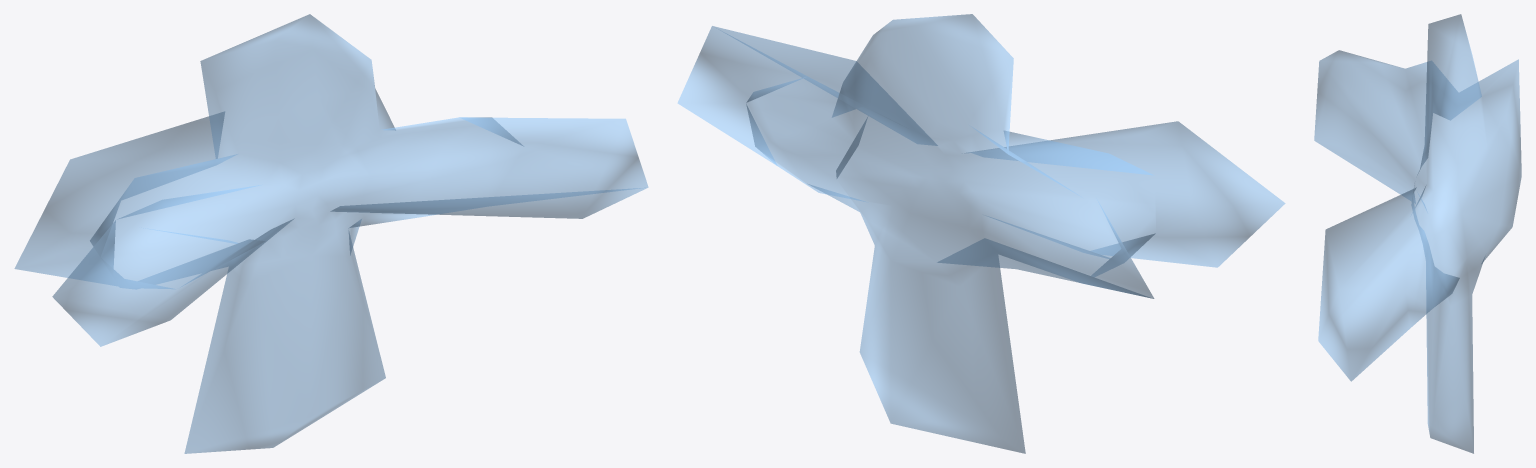
Rendered from thq_shield.gltf.
The picture shows the model from 3 angles, left to right: view 1: azimuth 30°, elevation 25°; view 2: azimuth 150°, elevation 25°; view 3: azimuth 270°, elevation 25°; orthographic projection.
Parts seen in each view (by area): view 1: thq.shield; view 2: thq.shield; view 3: thq.shield.
Boxes of the visible parts, box(x1,y1,x2,y2) form: thq.shield: box(14, 14, 648, 453); thq.shield: box(677, 14, 1285, 453); thq.shield: box(1314, 14, 1521, 453).
Size of the model in its own units: 43.76 by 28.39 by 13.24.
